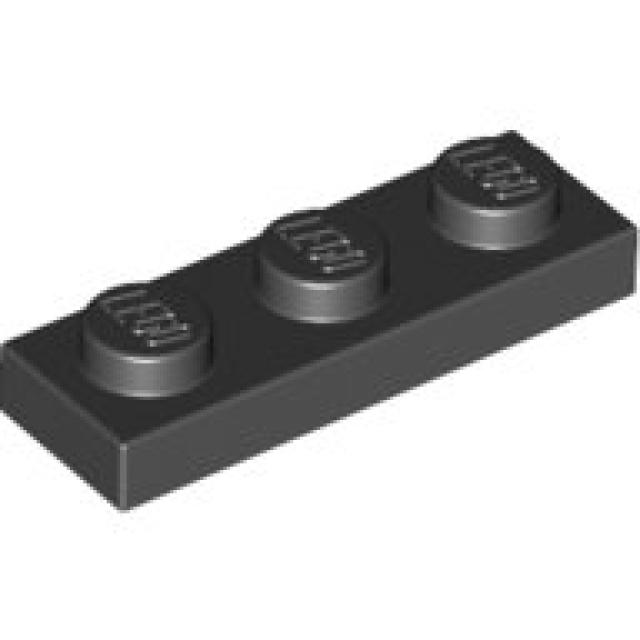Black_Medium: (0, 133, 640, 513)
